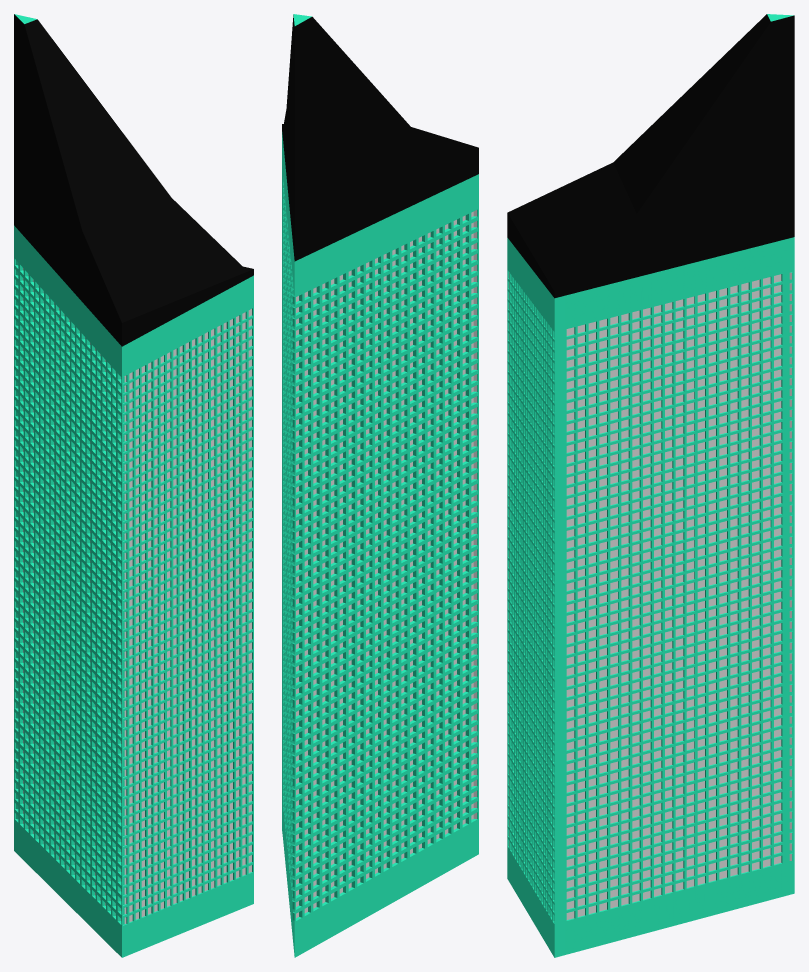
Rendered from ConstellationTower.fbx.
3 renders of one model, left to right at view 1: azimuth 30°, elevation 25°; view 2: azimuth 150°, elevation 25°; view 3: azimuth 270°, elevation 25°, orthographic. The views are drawn at different scales.
Visible parts, largest first — view 1: ConstellationTower; view 2: ConstellationTower; view 3: ConstellationTower.
Boxes of the visible parts, bbox=[...] form: ConstellationTower: bbox=[14, 14, 253, 957]; ConstellationTower: bbox=[282, 14, 478, 957]; ConstellationTower: bbox=[507, 14, 794, 957].
Size of the model in its own units: 3308 by 17135 by 5076.
